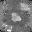people: (11, 13, 22, 23)
